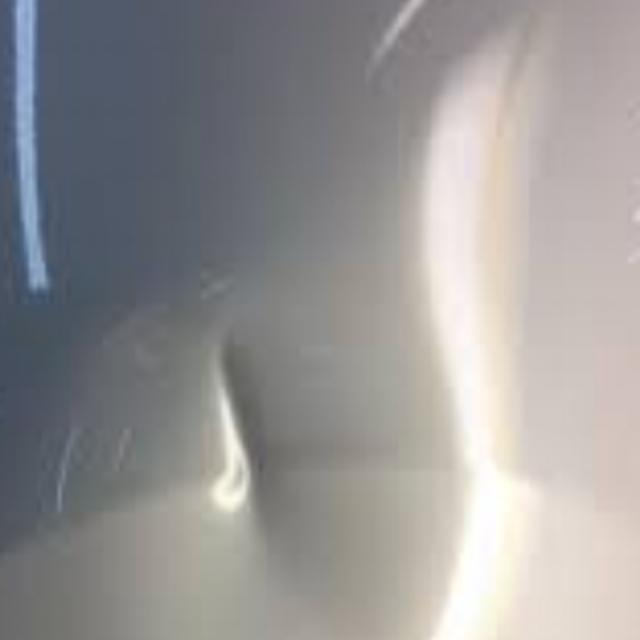dents: (182, 330, 299, 532)
